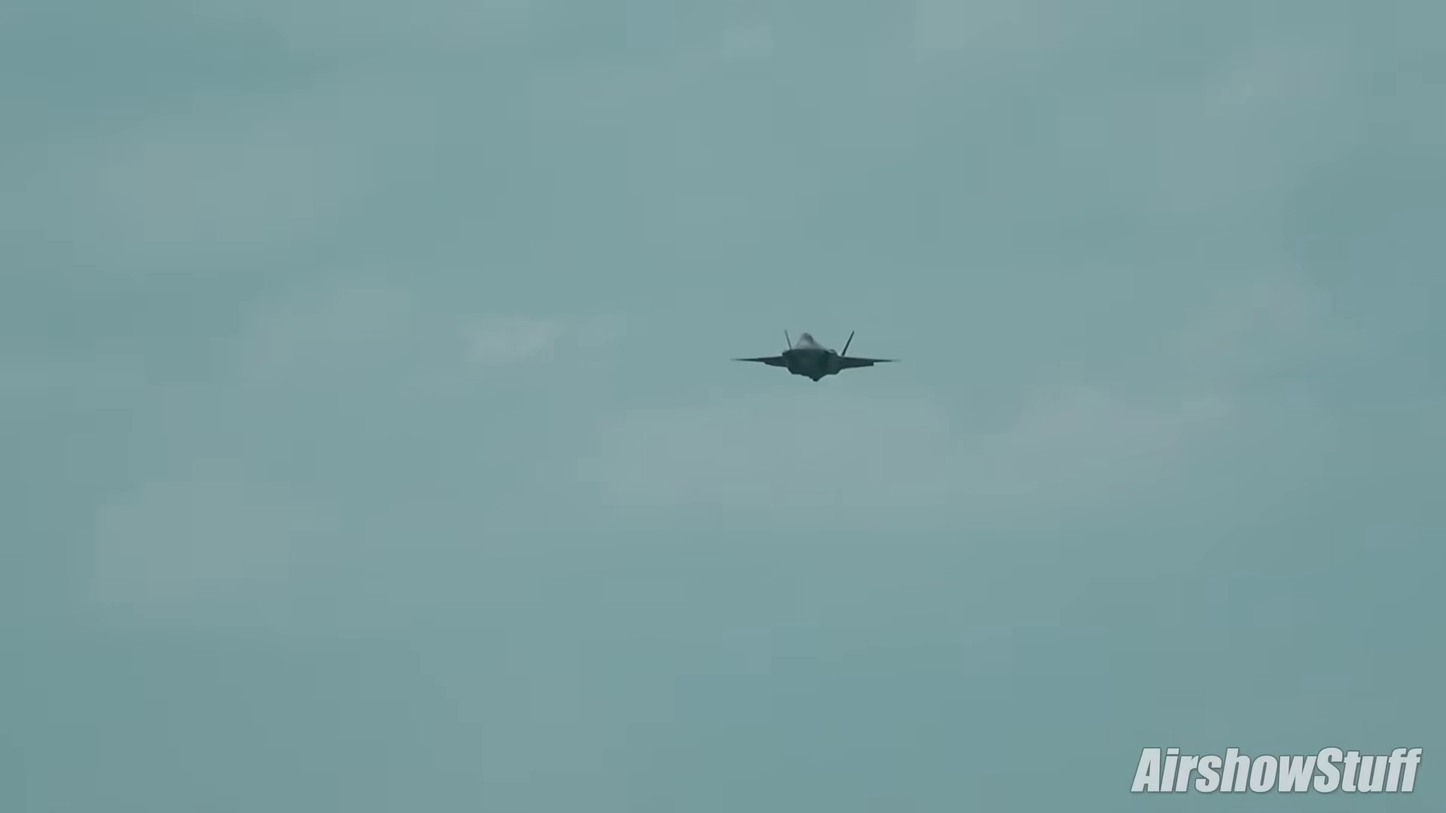F35: (731, 317, 906, 394)
